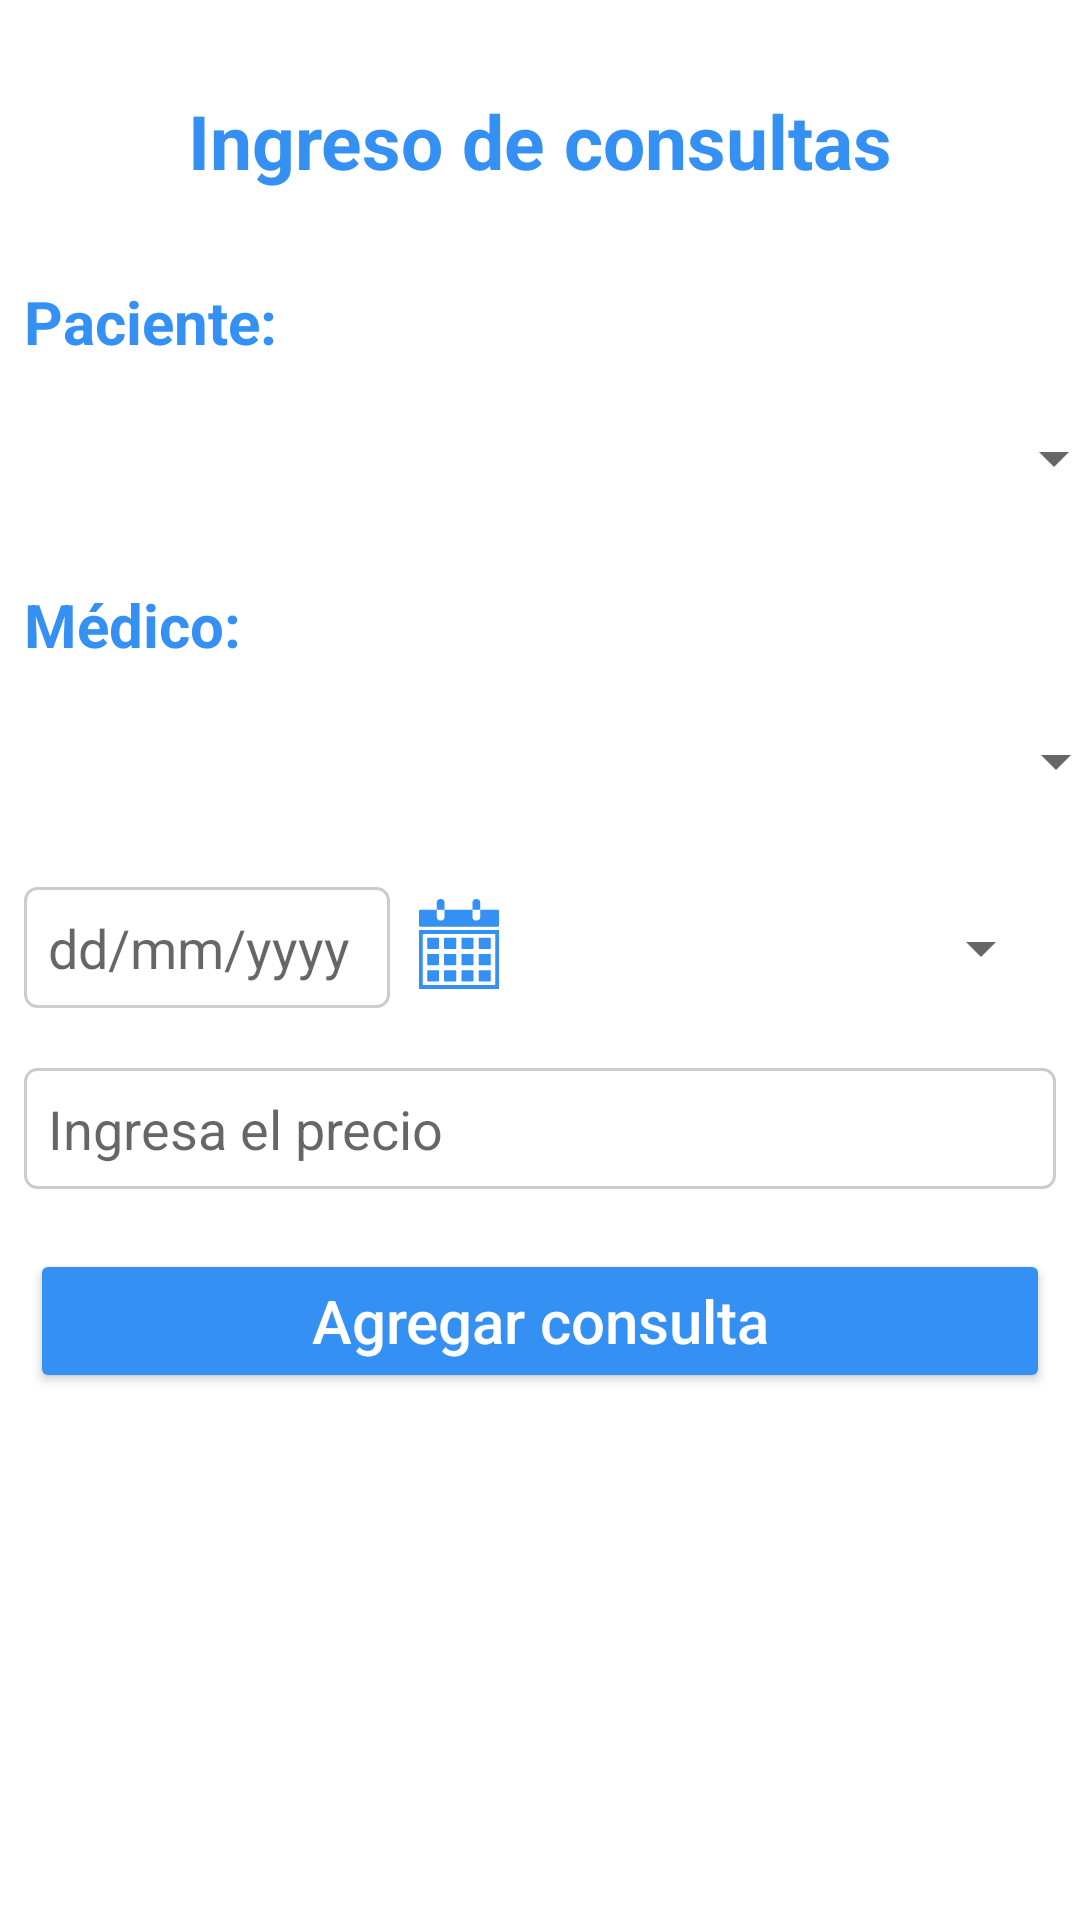

Icons on this 1080x1920 Android screen, each with the point to tap as (x,y):
calendar: (459,944)
